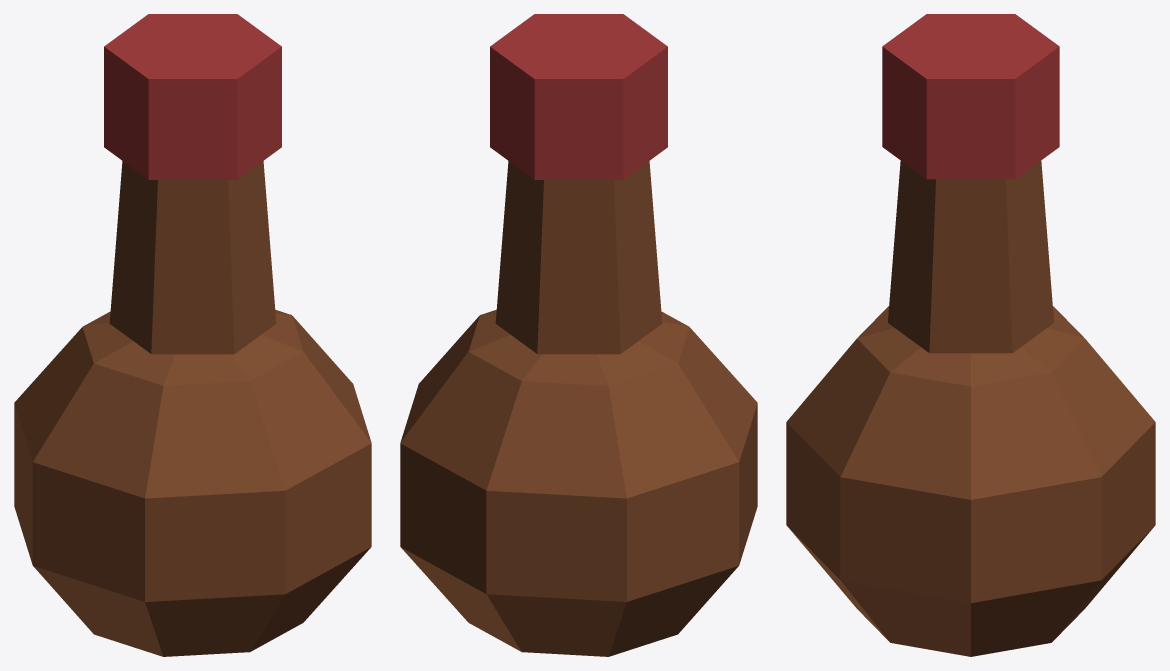
The model's file is prop_potion_bottle.glb.
The picture shows the model from 3 angles, left to right: view 1: azimuth 30°, elevation 25°; view 2: azimuth 150°, elevation 25°; view 3: azimuth 270°, elevation 25°; orthographic projection.
Visible parts, largest first — view 1: prop_potion_bottle; view 2: prop_potion_bottle; view 3: prop_potion_bottle.
Part boxes in pixels (x1,y1,x2,y2): prop_potion_bottle: (14,14,371,656); prop_potion_bottle: (400,14,757,656); prop_potion_bottle: (786,14,1155,656).
Size of the model in its own units: 0.1331 by 0.2365 by 0.1331.
